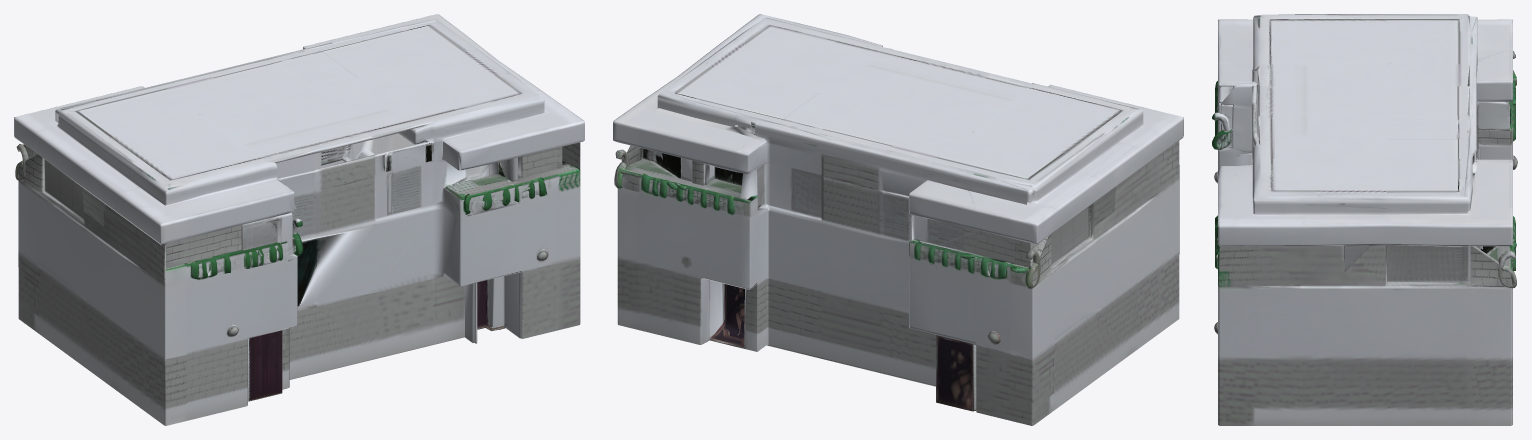
The model's file is bld_556855840.glb.
3 renders of one model, left to right at view 1: azimuth 30°, elevation 25°; view 2: azimuth 150°, elevation 25°; view 3: azimuth 270°, elevation 25°, orthographic.
Size of the model in its own units: 1.91 by 0.9432 by 1.19.
Materials: 1 (1 with a texture image).
